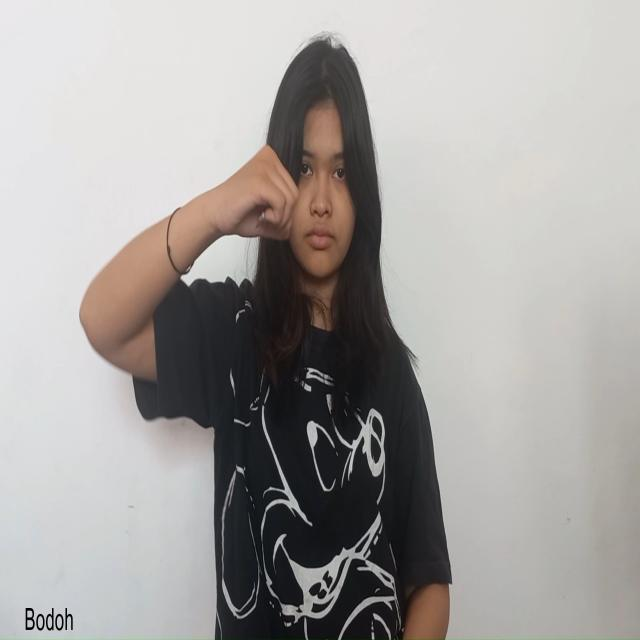Bodoh -BISINDO-: (209, 141, 301, 244)
